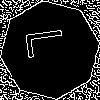L: (25, 25, 75, 59)
